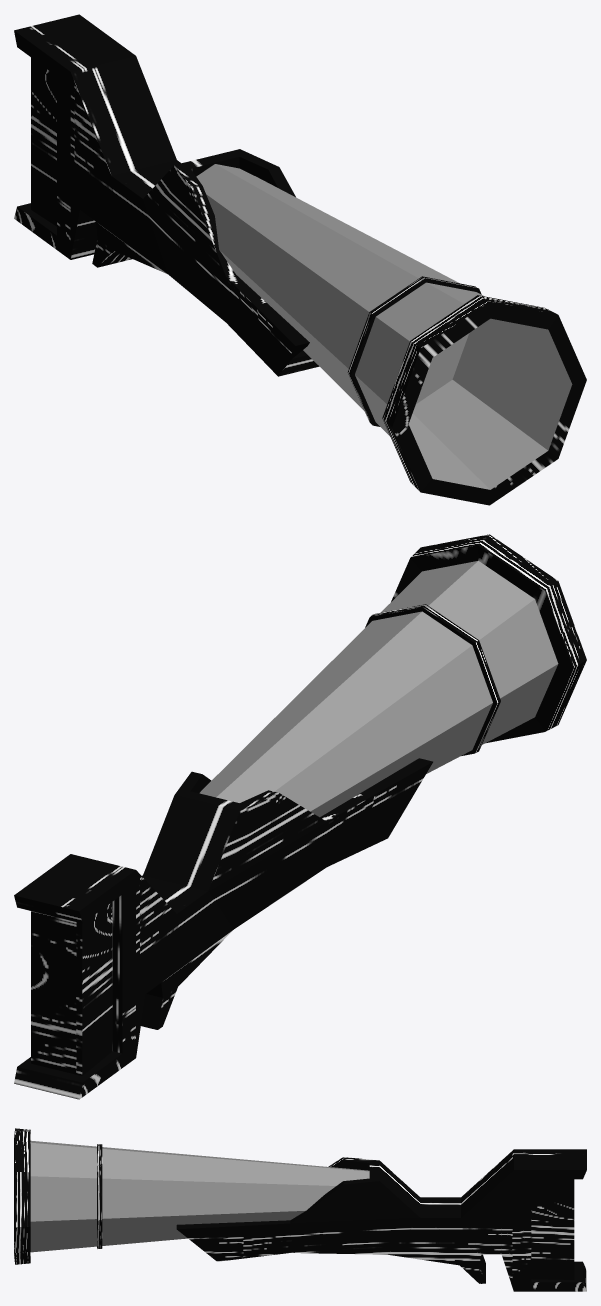
Rendered from Gun.fbx.
3 views of the same model, one above another, from view 1: azimuth 30°, elevation 25°; view 2: azimuth 150°, elevation 25°; view 3: azimuth 270°, elevation 25° (orthographic). The views are drawn at different scales.
Visible parts, largest first — view 1: Gun; view 2: Gun; view 3: Gun.
Boxes of the visible parts, <box> form: Gun: <box>14,14,586,505</box>; Gun: <box>14,534,586,1099</box>; Gun: <box>14,1128,586,1291</box>.
Size of the model in its own units: 33.5 by 38.33 by 132.
